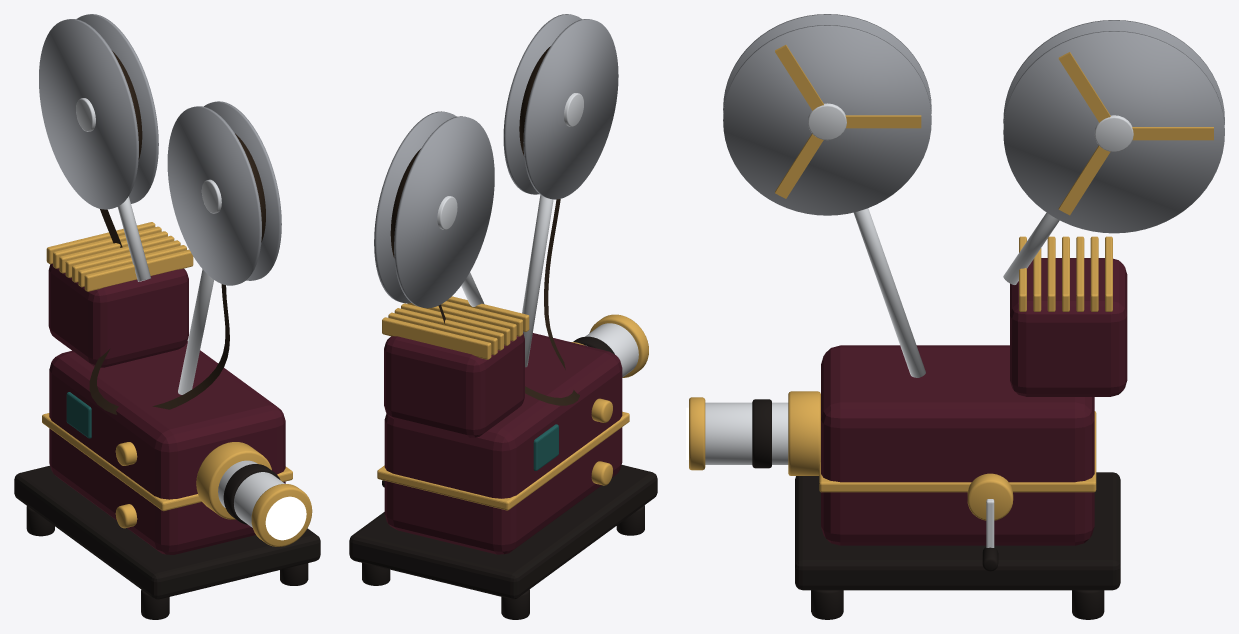
File: projector.glb
3 renders of one model, left to right at view 1: azimuth 30°, elevation 25°; view 2: azimuth 150°, elevation 25°; view 3: azimuth 270°, elevation 25°, orthographic. The views are drawn at different scales.
Visible parts, largest first — view 1: Body, ReelBack, ReelFront, Plinth, LampHouse, LensMount, FilmPath, TrimBand, ArmFront, Fin0, LensRing, LensBarrel (+15 smaller); view 2: Body, ReelBack, ReelFront, Plinth, LampHouse, TrimBand, ArmFront, Fin6, FilmPath, LensBarrel, LensRing, GateWindow (+11 smaller); view 3: Body, ReelBack, ReelFront, Plinth, LampHouse, LensBarrel, TrimBand, ArmFront, LensMount, CrankHub, LensFocusRing, LensRing (+3 smaller).
Part boxes in pixels (<box>): Body: <box>49,341,285,554</box>; ReelBack: <box>39,14,158,209</box>; ReelFront: <box>167,101,281,285</box>; Plinth: <box>14,465,320,599</box>; LampHouse: <box>48,263,188,367</box>; LensMount: <box>196,442,271,519</box>; FilmPath: <box>89,209,229,414</box>; TrimBand: <box>42,413,292,511</box>; ArmFront: <box>178,269,213,394</box>; Fin0: <box>84,249,193,291</box>; LensRing: <box>251,484,312,546</box>; LensBarrel: <box>218,460,284,527</box>; Body: <box>384,333,622,554</box>; ReelBack: <box>374,111,494,308</box>; ReelFront: <box>503,14,618,199</box>; Plinth: <box>349,465,657,599</box>; LampHouse: <box>384,333,524,437</box>; TrimBand: <box>377,411,629,510</box>; ArmFront: <box>522,195,553,367</box>; Fin6: <box>382,317,491,359</box>; FilmPath: <box>438,199,579,405</box>; LensBarrel: <box>585,323,638,377</box>; LensRing: <box>589,314,648,377</box>; GateWindow: <box>533,424,558,470</box>; Body: <box>821,345,1094,545</box>; ReelBack: <box>1003,20,1224,233</box>; ReelFront: <box>723,14,931,215</box>; Plinth: <box>795,472,1120,590</box>; LampHouse: <box>1010,258,1127,396</box>; LensBarrel: <box>705,402,788,464</box>; TrimBand: <box>819,411,1096,492</box>; ArmFront: <box>853,208,925,377</box>; LensMount: <box>788,391,820,475</box>; CrankHub: <box>967,473,1013,520</box>; LensFocusRing: <box>752,399,771,468</box>; LensRing: <box>689,397,705,470</box>.
Bounding box in the file's own units: 0.38 × 0.94 × 0.827.
